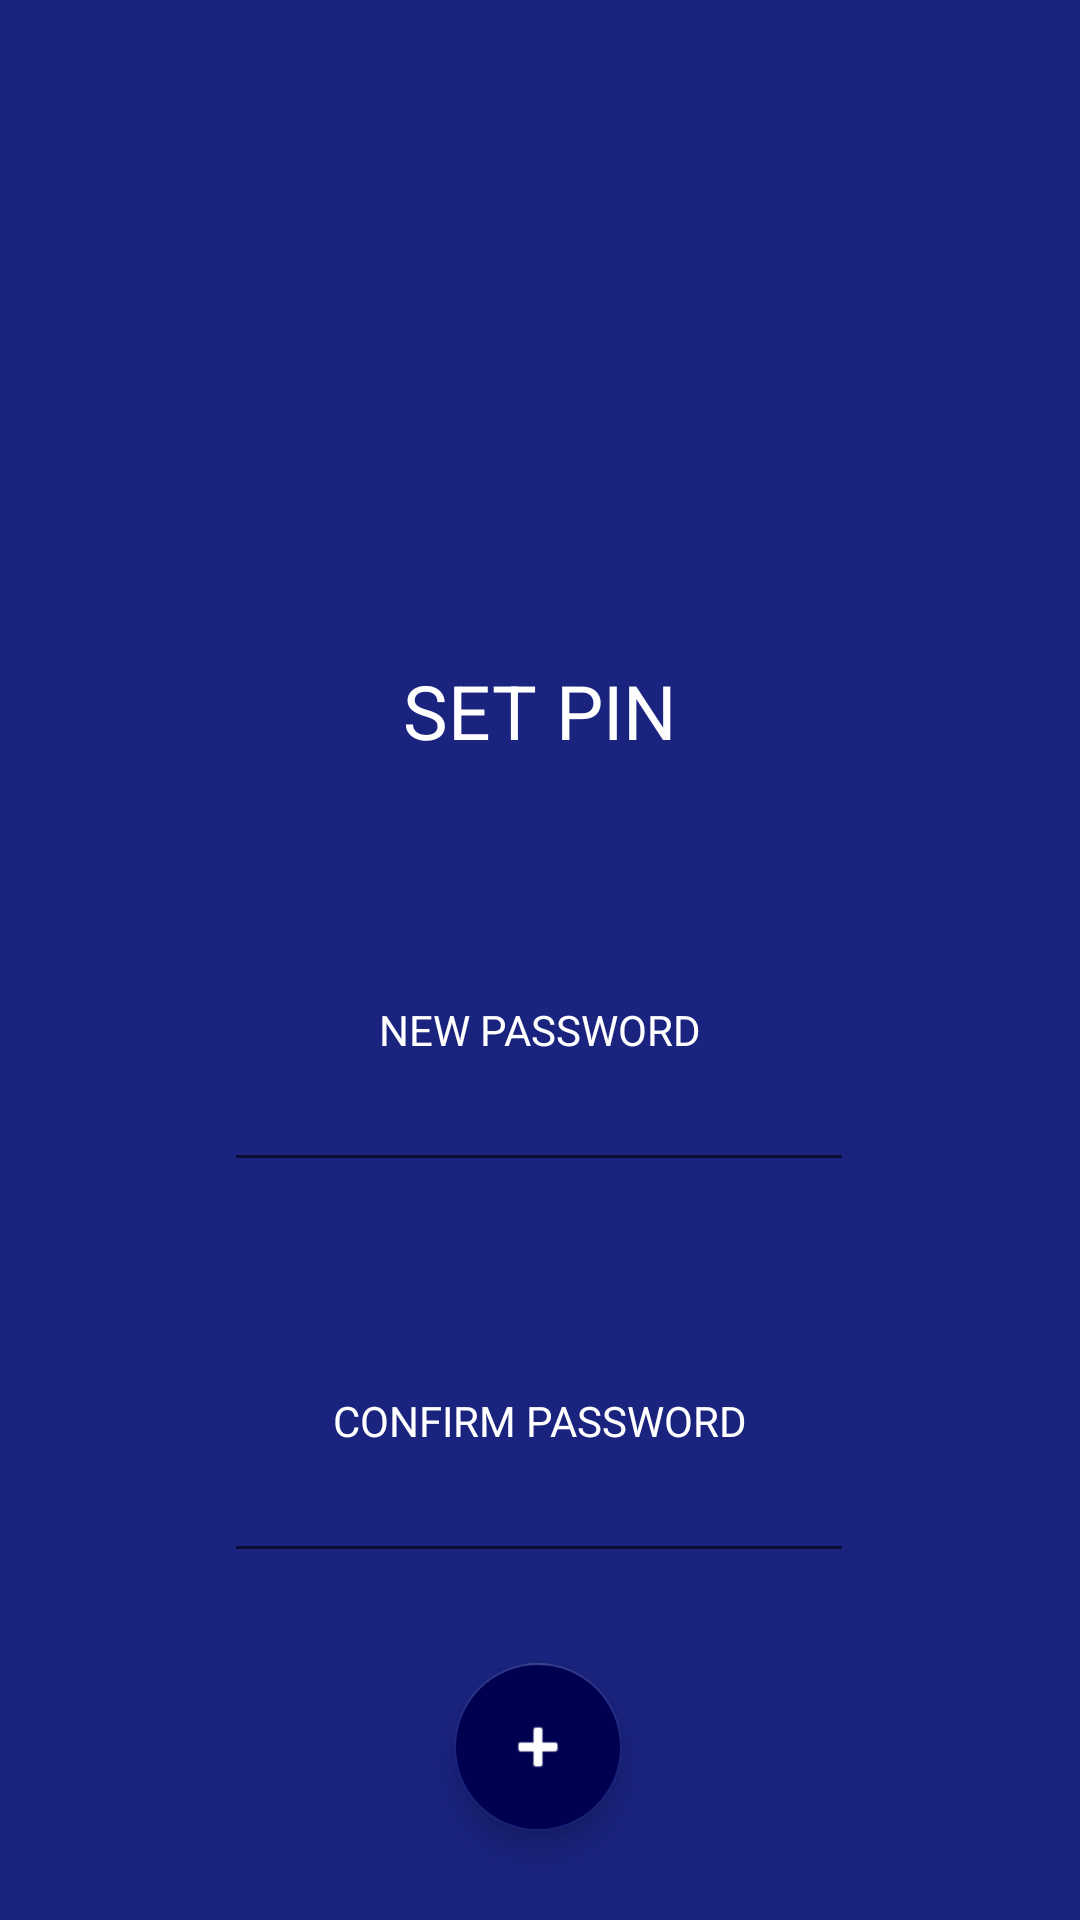

Where to tap for icons on this 1080 × 1920 app screen, as [x,y]:
add: [538,1746]
